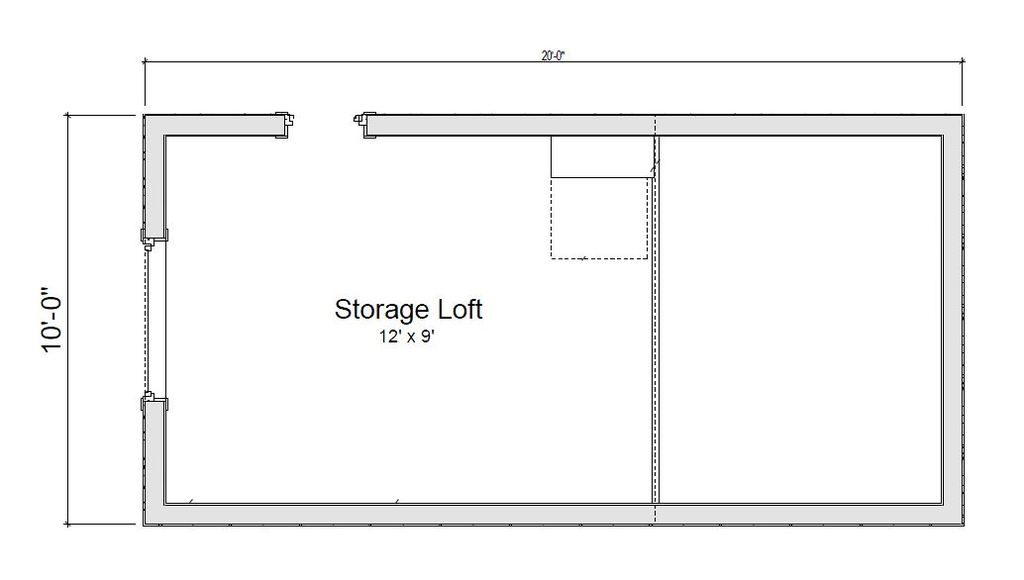window: (137, 241, 185, 407)
